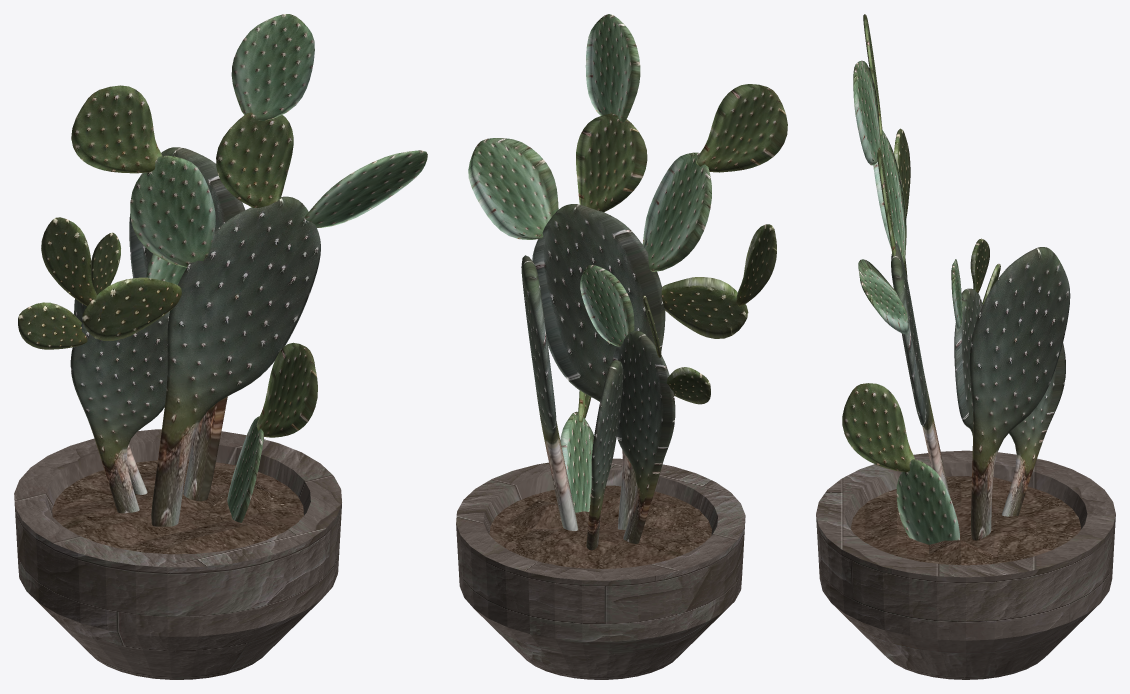
The model's file is Giant Cactus.fbx.
The picture shows the model from 3 angles, left to right: view 1: azimuth 30°, elevation 25°; view 2: azimuth 150°, elevation 25°; view 3: azimuth 270°, elevation 25°; orthographic projection. The views are drawn at different scales.
Parts seen in each view (by area): view 1: prickly pear cactus.007, Cylinder, Plane; view 2: prickly pear cactus.007, Cylinder, Plane; view 3: prickly pear cactus.007, Cylinder, Plane.
Boxes of the visible parts, x1=… form: prickly pear cactus.007: x1=18, y1=14, x2=427, y2=526; Cylinder: x1=14, y1=429, x2=341, y2=679; Plane: x1=52, y1=459, x2=303, y2=554; prickly pear cactus.007: x1=468, y1=14, x2=787, y2=550; Cylinder: x1=456, y1=458, x2=745, y2=679; Plane: x1=489, y1=485, x2=711, y2=568; prickly pear cactus.007: x1=842, y1=14, x2=1070, y2=544; Cylinder: x1=816, y1=450, x2=1115, y2=679; Plane: x1=851, y1=476, x2=1080, y2=565.
Bounding box in the file's own units: 42.34 × 72.89 × 32.96.
6 materials, 6 textured.
